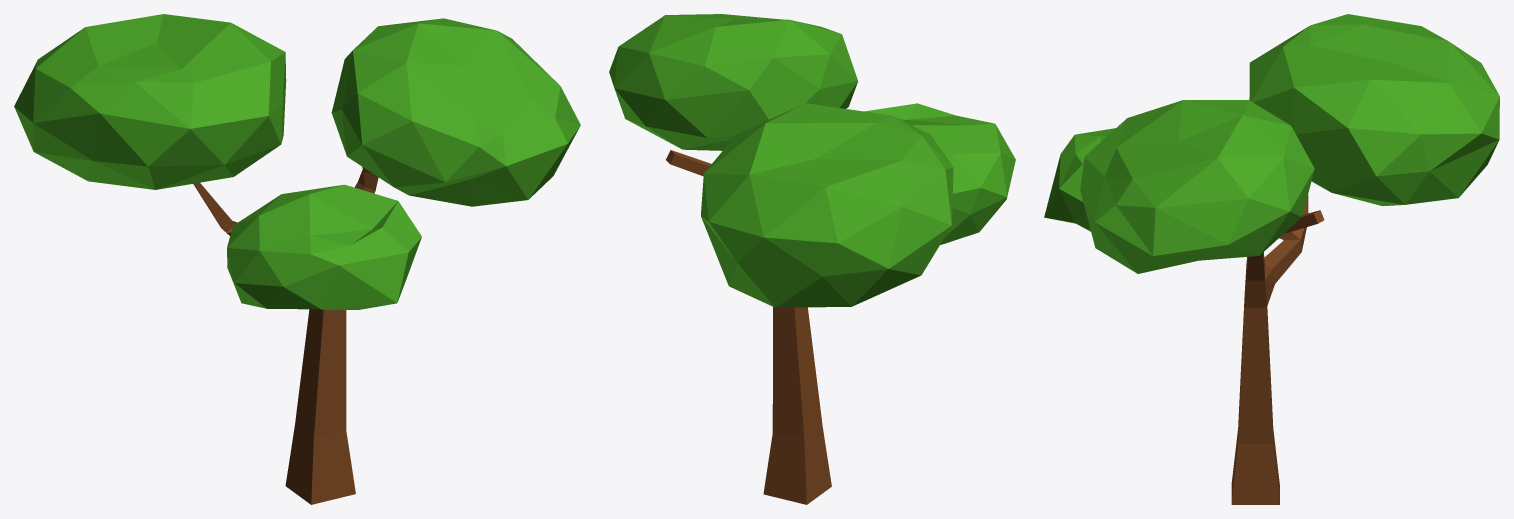
3 views of the same model, side by side, from view 1: azimuth 30°, elevation 25°; view 2: azimuth 150°, elevation 25°; view 3: azimuth 270°, elevation 25° (orthographic). The views are drawn at different scales.
Parts seen in each view (by area): view 1: 아이코스피어.001, 아이코스피어.003, 아이코스피어.002, 큐브.001; view 2: 아이코스피어.001, 아이코스피어.003, 큐브.001, 아이코스피어.002; view 3: 아이코스피어.001, 아이코스피어.003, 큐브.001, 아이코스피어.002.
Boxes of the visible parts, x1=… form: 아이코스피어.001: x1=14, y1=14, x2=286, y2=189; 아이코스피어.003: x1=331, y1=18, x2=580, y2=206; 아이코스피어.002: x1=227, y1=184, x2=421, y2=309; 큐브.001: x1=193, y1=167, x2=378, y2=504; 아이코스피어.001: x1=701, y1=103, x2=953, y2=307; 아이코스피어.003: x1=609, y1=14, x2=857, y2=150; 큐브.001: x1=666, y1=150, x2=831, y2=504; 아이코스피어.002: x1=864, y1=103, x2=1015, y2=244; 아이코스피어.001: x1=1249, y1=14, x2=1499, y2=206; 아이코스피어.003: x1=1080, y1=100, x2=1314, y2=273; 큐브.001: x1=1231, y1=194, x2=1324, y2=504; 아이코스피어.002: x1=1044, y1=128, x2=1115, y2=231.
Size of the model in its own units: 3534 by 3516 by 3450.
